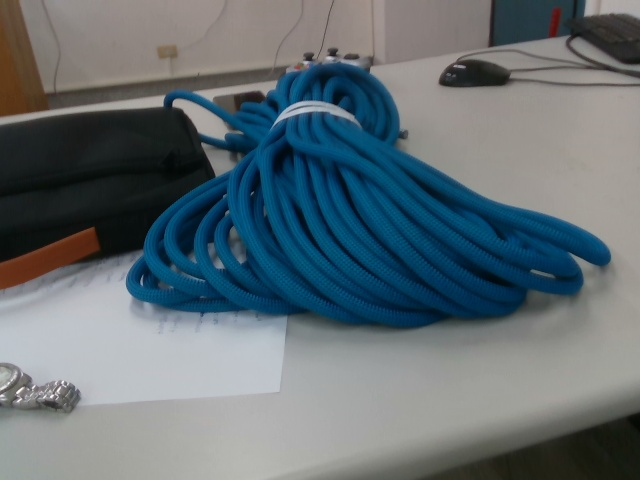rope: (124, 60, 616, 331)
